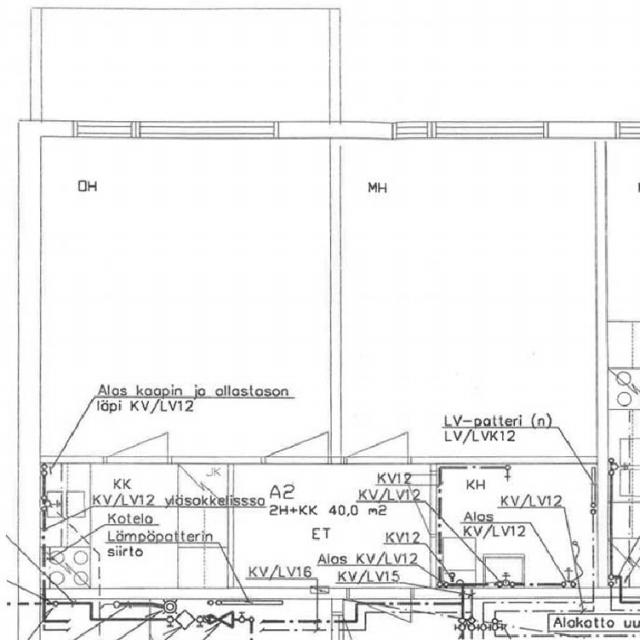door: (346, 396, 407, 464), (368, 475, 437, 535)
